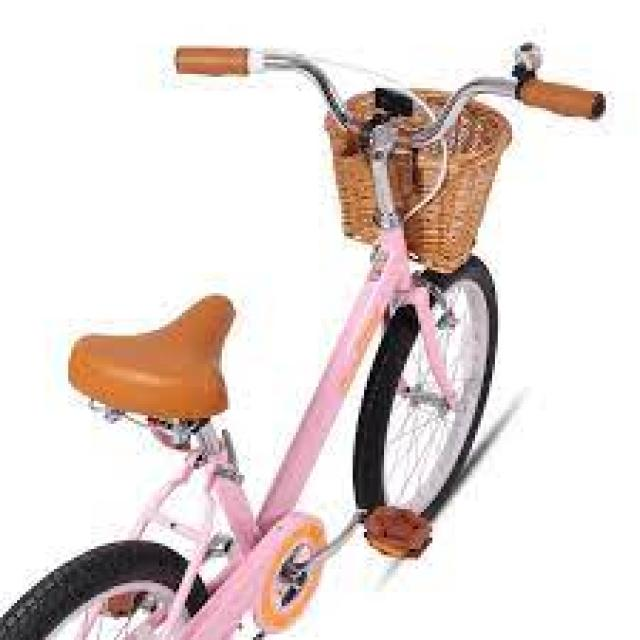urban-bike: (0, 35, 614, 640)
